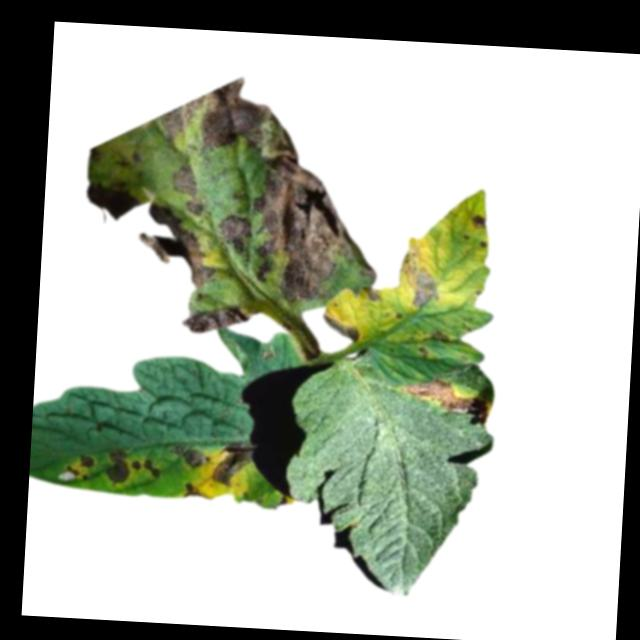Early_blight: (241, 153, 360, 310), (159, 71, 287, 157), (135, 203, 221, 292), (400, 377, 493, 430), (179, 301, 247, 343), (78, 184, 140, 225), (397, 250, 440, 309), (208, 438, 252, 487), (218, 212, 255, 258), (56, 453, 96, 487), (167, 157, 199, 198), (323, 315, 360, 345), (102, 447, 127, 489), (168, 442, 203, 470), (128, 454, 161, 482), (178, 480, 207, 504), (362, 287, 380, 305), (470, 214, 485, 234)
